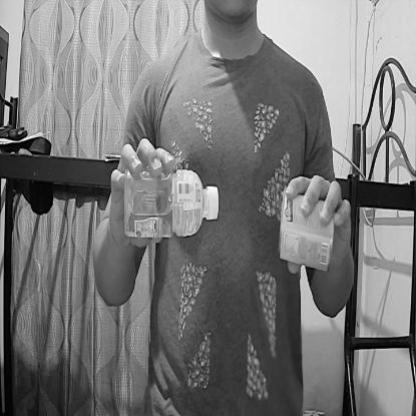Plastic Bottle: (113, 153, 225, 264)
